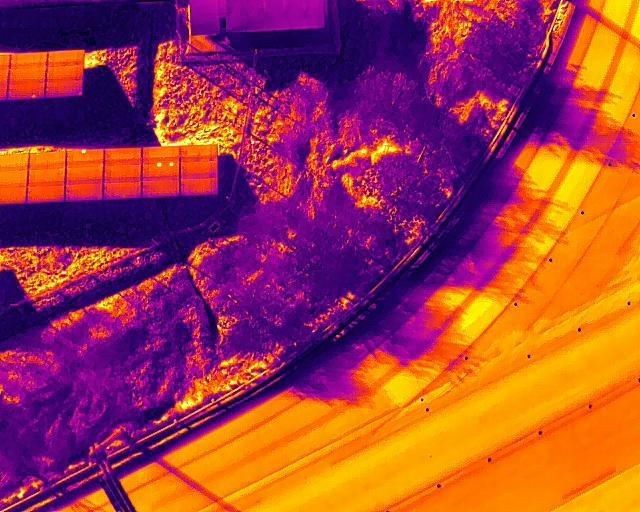Cell: (5, 82, 46, 99), (66, 149, 104, 163)
Cell-Multi: (141, 162, 181, 179)
No-Anomaly: (102, 180, 142, 198), (64, 163, 103, 181), (26, 185, 65, 203), (180, 160, 218, 178), (141, 179, 181, 196), (27, 168, 66, 185), (179, 178, 218, 195), (103, 163, 143, 179), (65, 182, 104, 198), (47, 50, 84, 66), (142, 147, 181, 162), (46, 80, 82, 96), (6, 67, 47, 81), (28, 153, 66, 168), (9, 52, 47, 67), (180, 146, 217, 161), (103, 148, 142, 162), (47, 67, 84, 80)
